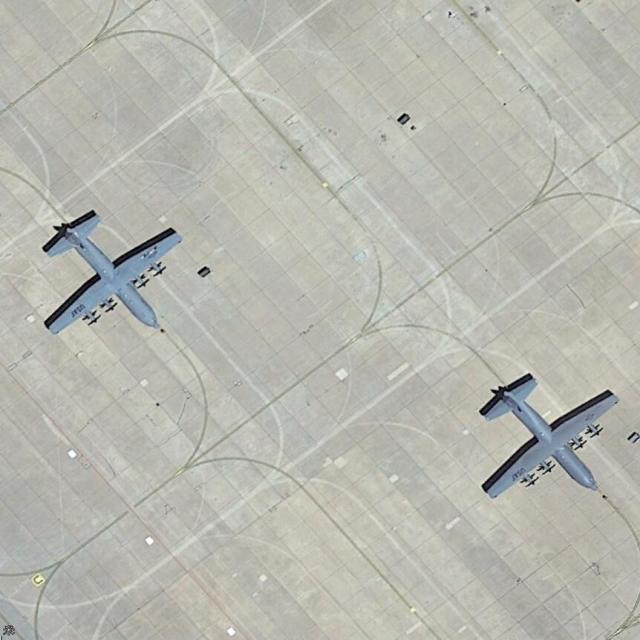fighter jet: (38, 210, 188, 335), (477, 368, 616, 501)
